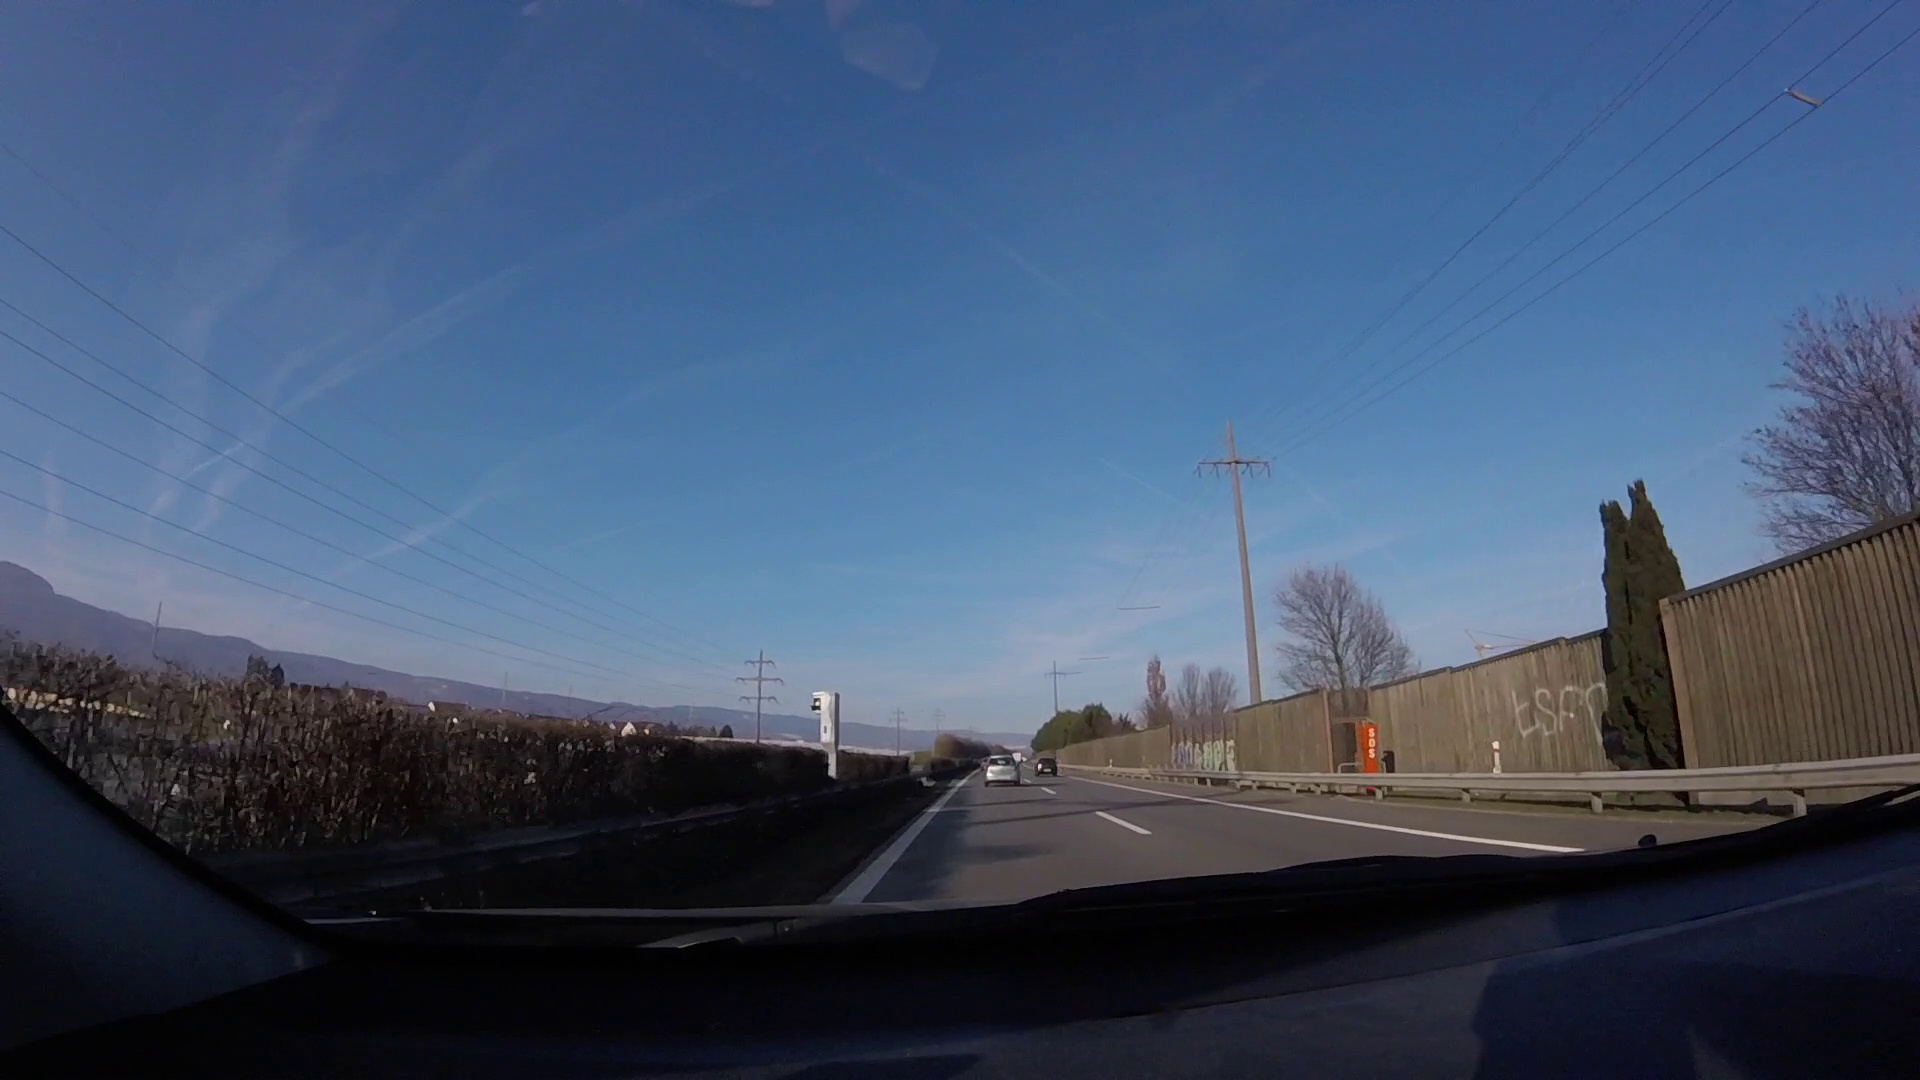radar: (810, 690, 844, 783)
